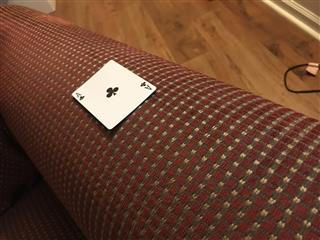AceOfClubs: (71, 59, 157, 129)
